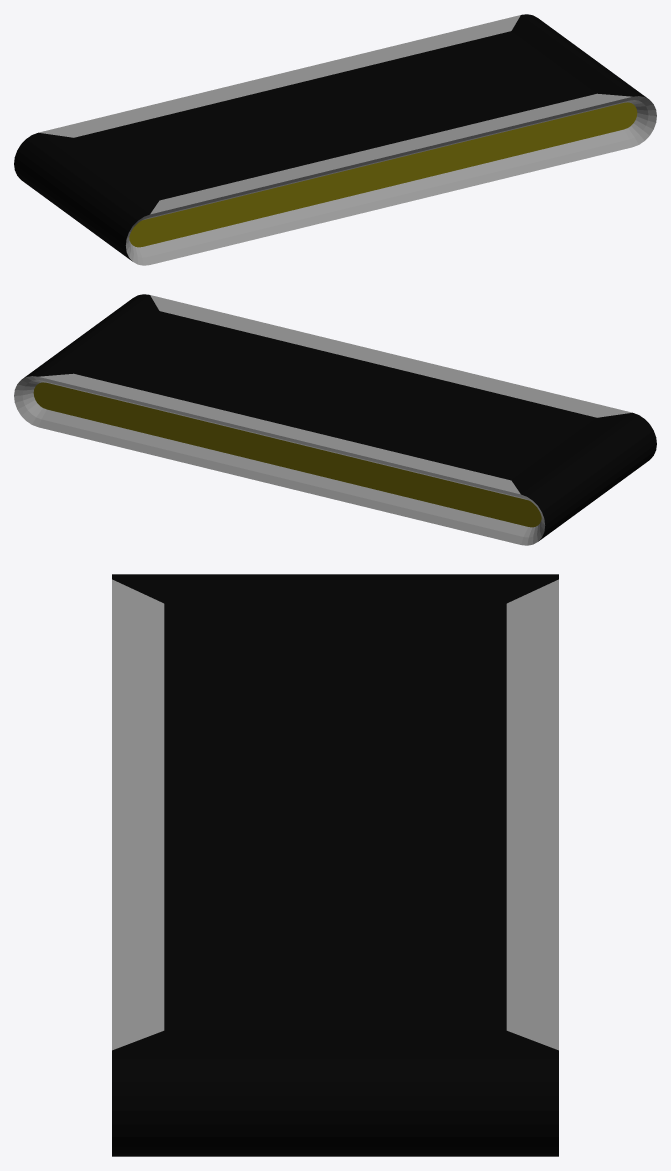
The model's file is esteira.FBX.
The picture shows the model from 3 angles, top to bottom: view 1: azimuth 30°, elevation 25°; view 2: azimuth 150°, elevation 25°; view 3: azimuth 270°, elevation 25°; orthographic projection. The views are drawn at different scales.
Parts seen in each view (by area): view 1: Capsule001; view 2: Capsule001; view 3: Capsule001.
Boxes of the visible parts, left/top/right/bottom form: Capsule001: left=14, top=14, right=656, bottom=265; Capsule001: left=14, top=294, right=656, bottom=545; Capsule001: left=112, top=574, right=558, bottom=1156.
Bounding box in the file's own units: 328 × 29.86 × 120.
